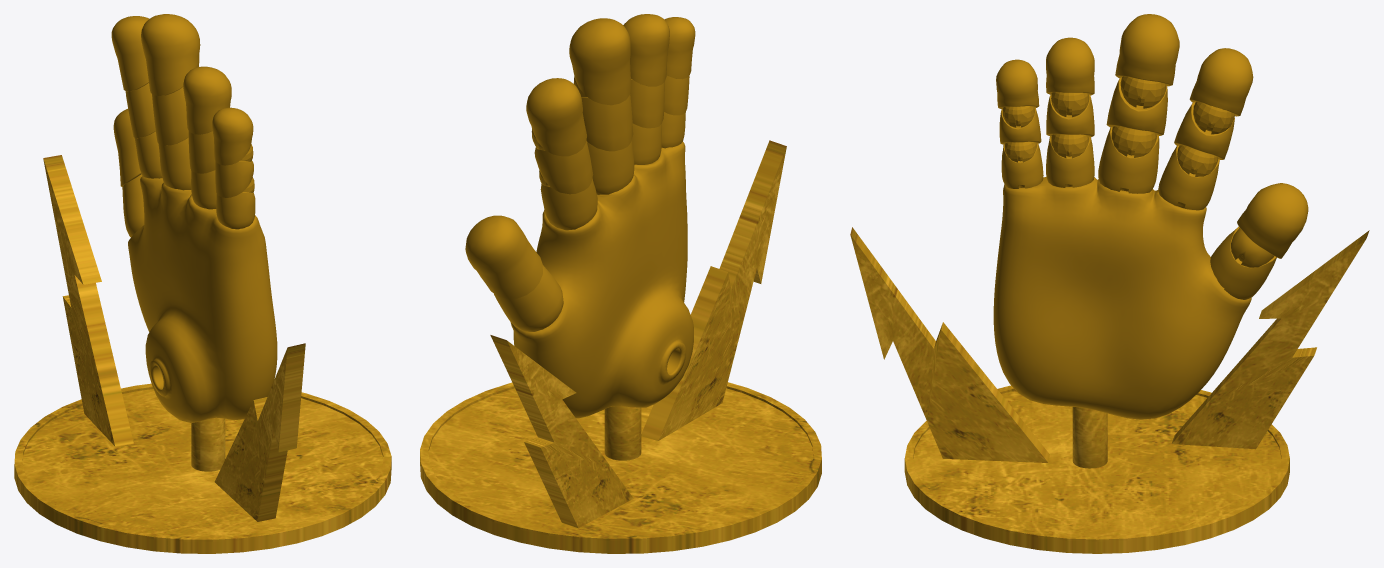
The model's file is poppy_playtime__trophy_-_green_hand.glb.
3 views of the same model, side by side, from view 1: azimuth 30°, elevation 25°; view 2: azimuth 150°, elevation 25°; view 3: azimuth 270°, elevation 25° (orthographic). The views are drawn at different scales.
Parts seen in each view (by area): view 1: trophy_green_hand; view 2: trophy_green_hand; view 3: trophy_green_hand.
Boxes of the visible parts, bbox=[...] form: trophy_green_hand: bbox=[14, 14, 391, 553]; trophy_green_hand: bbox=[420, 14, 821, 553]; trophy_green_hand: bbox=[850, 14, 1369, 553].
Bounding box in the file's own units: 0.5677 × 0.732 × 0.7655.
Materials: 2 (2 with a texture image).
